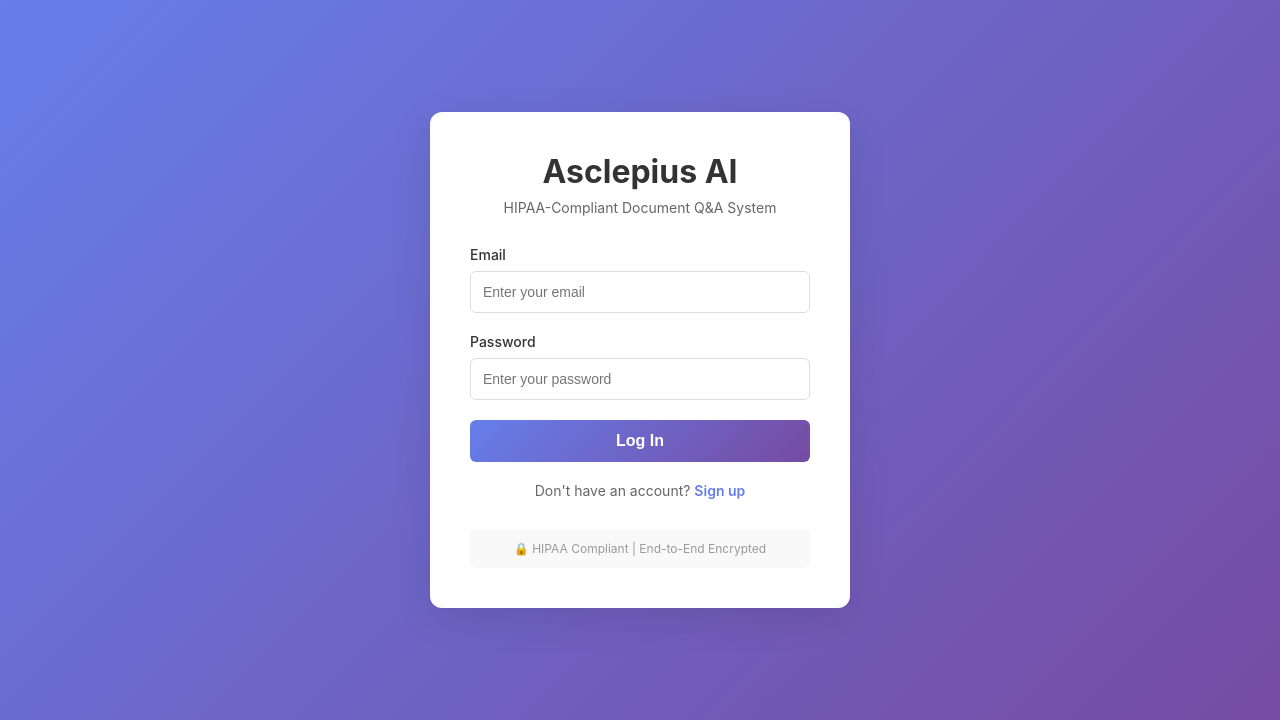
Test: Authentication Flow › should navigate to signup page
Step 1. Click the link "Sign up" → x=720, y=491, box [694,482,745,499]
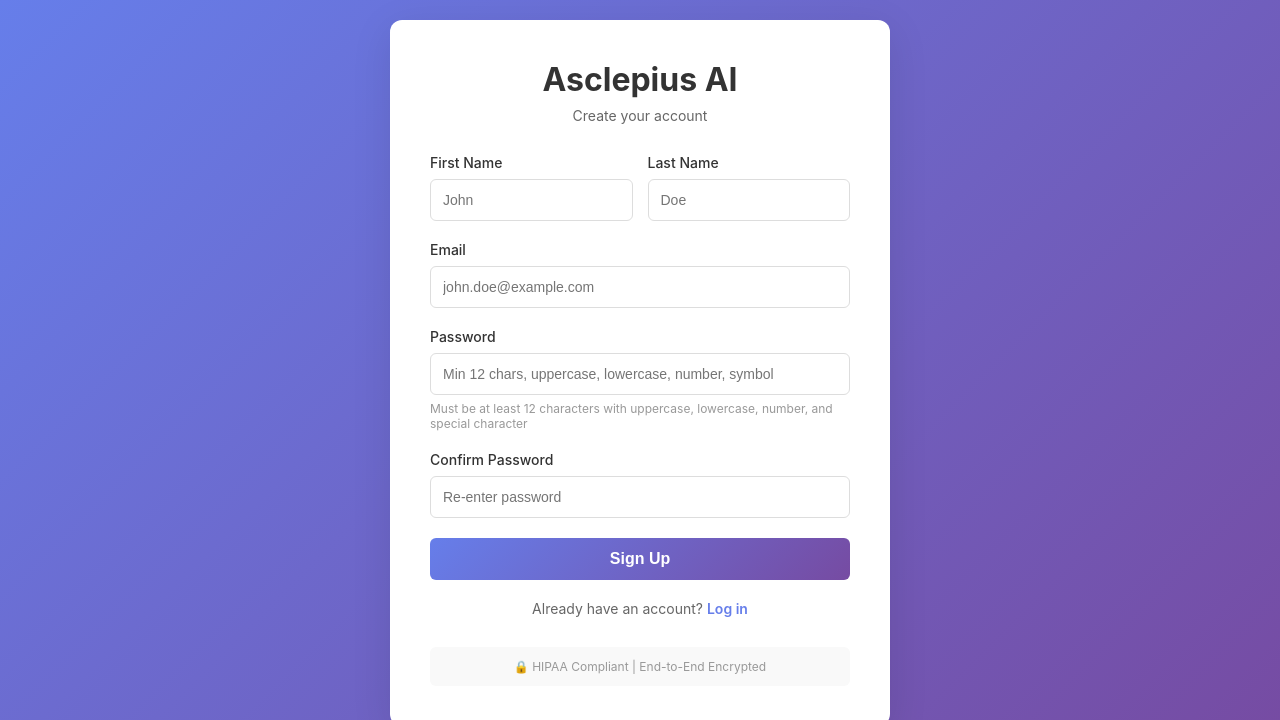
Expected: the heading "Asclepius AI" is shown, [542,60,738,99]
Expected: the text "Create your account" is shown, [573,107,707,124]
